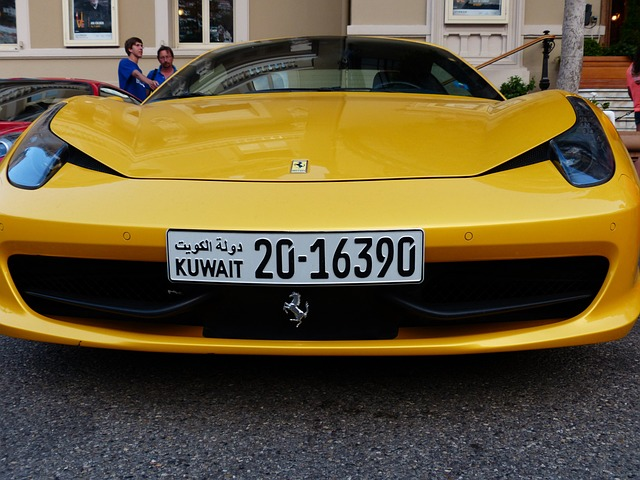number_plate: (168, 230, 425, 284)
